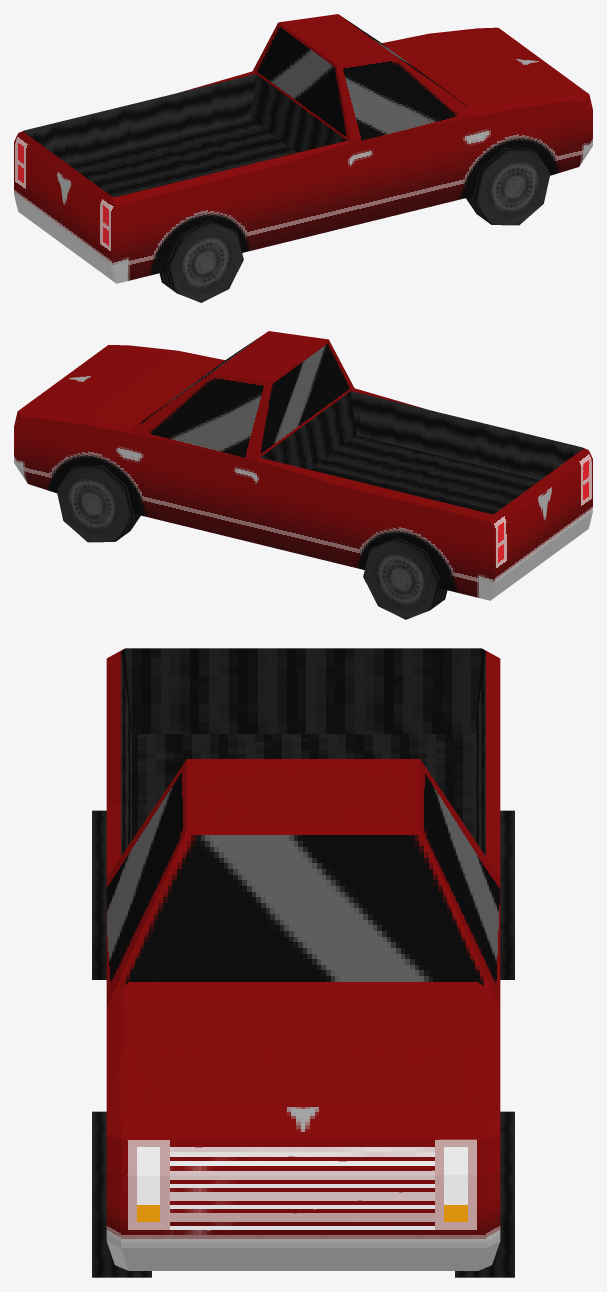
The model's file is truck.glb.
3 views of the same model, one above another, from view 1: azimuth 30°, elevation 25°; view 2: azimuth 150°, elevation 25°; view 3: azimuth 270°, elevation 25° (orthographic). The views are drawn at different scales.
Visible parts, largest first — view 1: Cube, Cylinder; view 2: Cube, Cylinder; view 3: Cube, Cylinder.
Boxes of the visible parts, x1=… form: Cube: x1=14, y1=14, x2=592, y2=283; Cylinder: x1=159, y1=148, x2=550, y2=302; Cube: x1=14, y1=331, x2=592, y2=600; Cylinder: x1=56, y1=465, x2=447, y2=619; Cube: x1=106, y1=648, x2=500, y2=1270; Cylinder: x1=92, y1=810, x2=514, y2=1277.
Bounding box in the file's own units: 4.32 × 1.55 × 1.63.
Materials: 2 (2 with a texture image).
